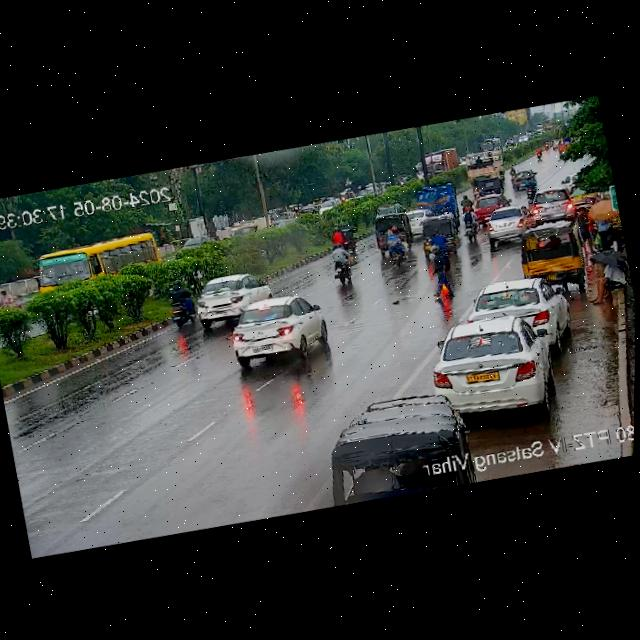bus: (35, 226, 173, 300), (477, 138, 503, 154)
car: (320, 386, 473, 509), (426, 308, 560, 423), (219, 286, 336, 374), (466, 271, 573, 351), (189, 265, 278, 329), (514, 218, 589, 284), (475, 202, 535, 249), (529, 184, 577, 226), (374, 211, 414, 254), (418, 215, 459, 255), (474, 192, 510, 227), (407, 208, 434, 236), (477, 174, 505, 198), (511, 167, 537, 190), (374, 202, 405, 218), (551, 138, 562, 149)
motorcycle: (163, 277, 199, 331), (329, 241, 355, 286), (383, 225, 407, 268), (459, 207, 482, 241), (328, 225, 346, 251), (340, 221, 356, 247), (430, 227, 448, 249), (0, 285, 15, 310), (524, 175, 537, 197), (460, 193, 474, 212), (534, 146, 544, 161), (509, 167, 517, 178), (544, 141, 551, 151)
person: (580, 245, 634, 309), (424, 244, 455, 299), (574, 203, 598, 253), (592, 207, 616, 247)
truck: (413, 179, 460, 223), (464, 146, 508, 184), (424, 146, 460, 177), (229, 214, 267, 238)
